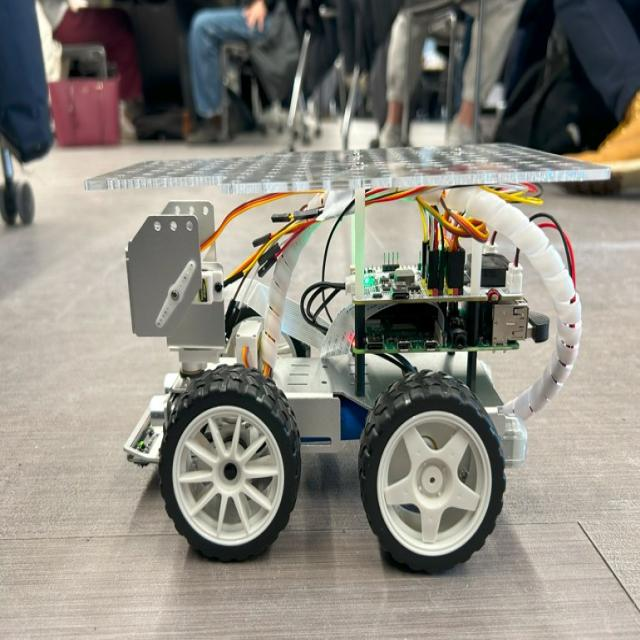vehicle: (70, 123, 626, 581)
